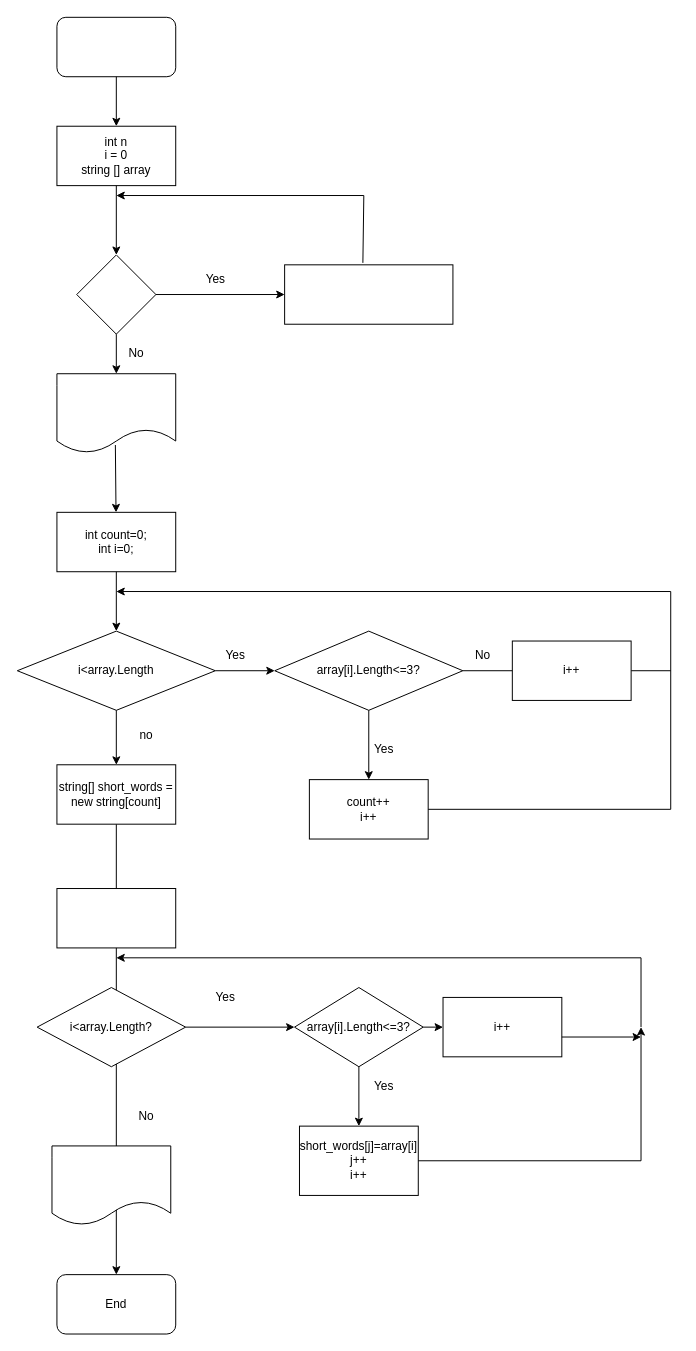
The diagram is 696 pixels wide and 1351 high, and some of its shapes have lost their labels. Each missing label, with the centre of its shape:
array: (x=116, y=413)
array[i]=Console.ReadLine();: (x=368, y=294)
i,j=0;: (x=116, y=918)
i<n: (x=116, y=294)
short_words: (x=111, y=1185)
Start: (x=116, y=46)
